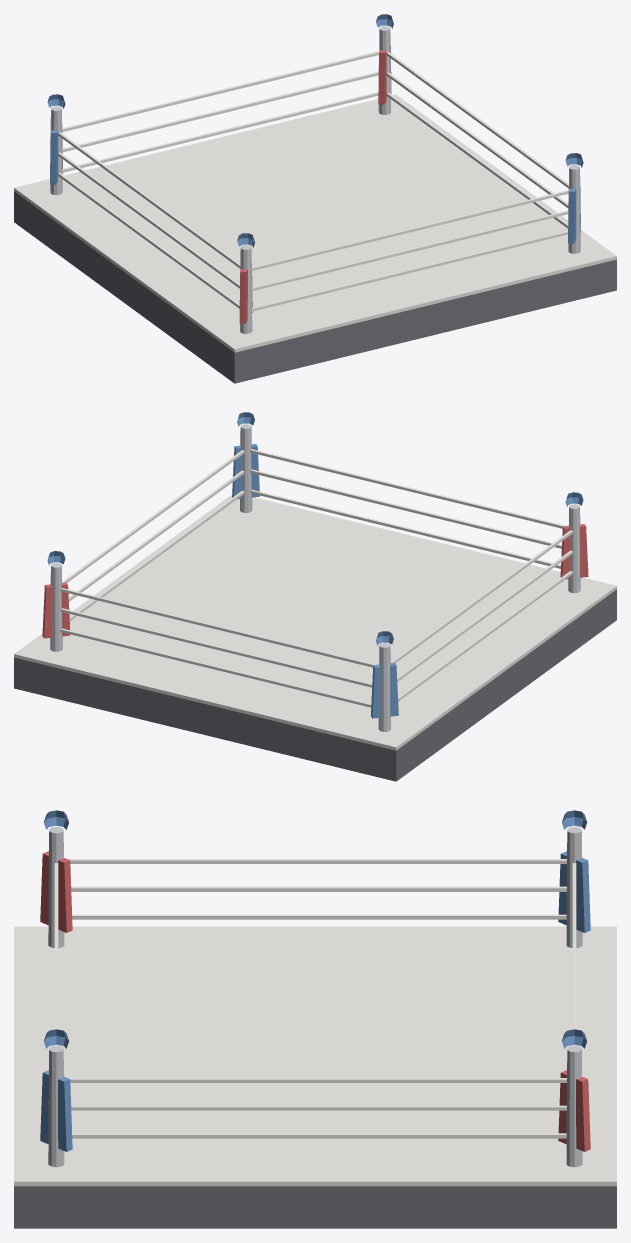
File: martial-arts-dojo-and-fight-stages-boxing-ring-448b582b__18032.glb
3 renders of one model, top to bottom at view 1: azimuth 30°, elevation 25°; view 2: azimuth 150°, elevation 25°; view 3: azimuth 270°, elevation 25°, orthographic. The views are drawn at different scales.
Visible parts, largest first — view 1: boxing-ring; view 2: boxing-ring; view 3: boxing-ring.
Part boxes in pixels (bbox=[...]): boxing-ring: bbox=[14, 14, 616, 383]; boxing-ring: bbox=[14, 412, 616, 781]; boxing-ring: bbox=[14, 810, 616, 1228].
Bounding box in the file's own units: 7.1 × 2.3 × 7.1.
